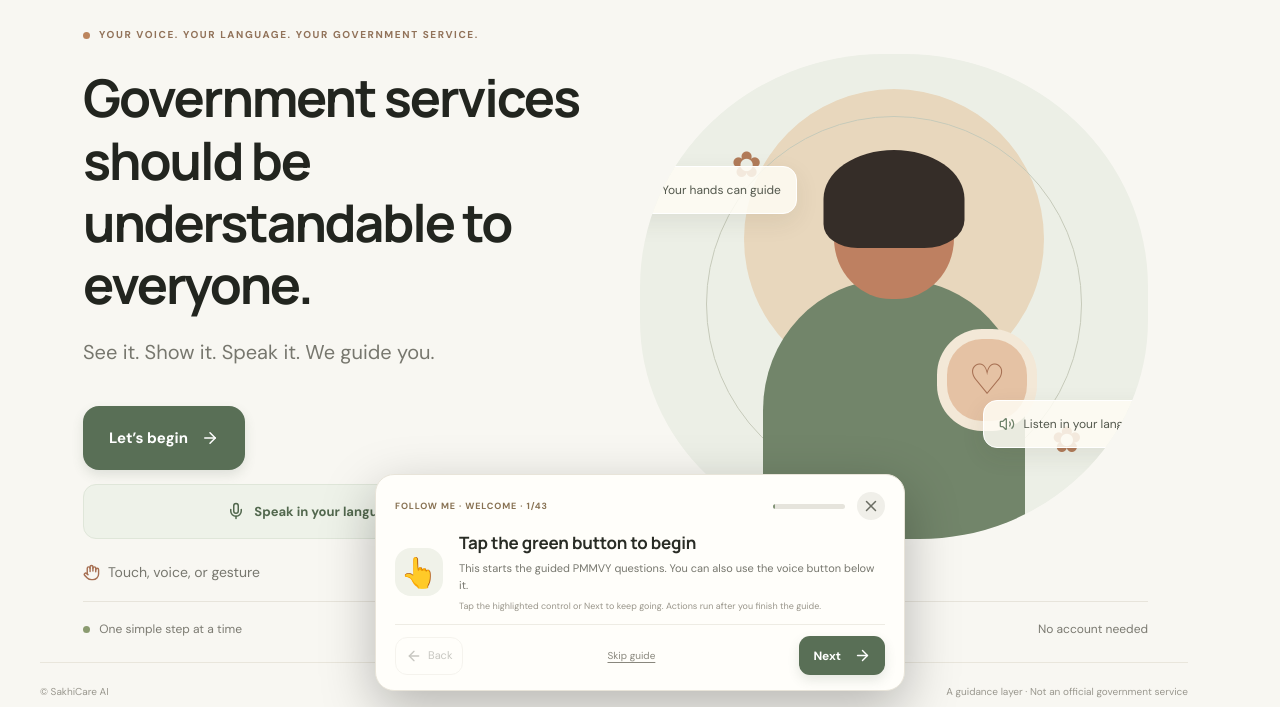
it: SakhiCare guided journey › shows the replay guide and advances its visual steps
(page scrolled)
What coordinates should you click on to do the following:
click the button named "skip guide"
I would click on:
 (871, 506)
Its box is [857,492,885,520].
(page scrolled)
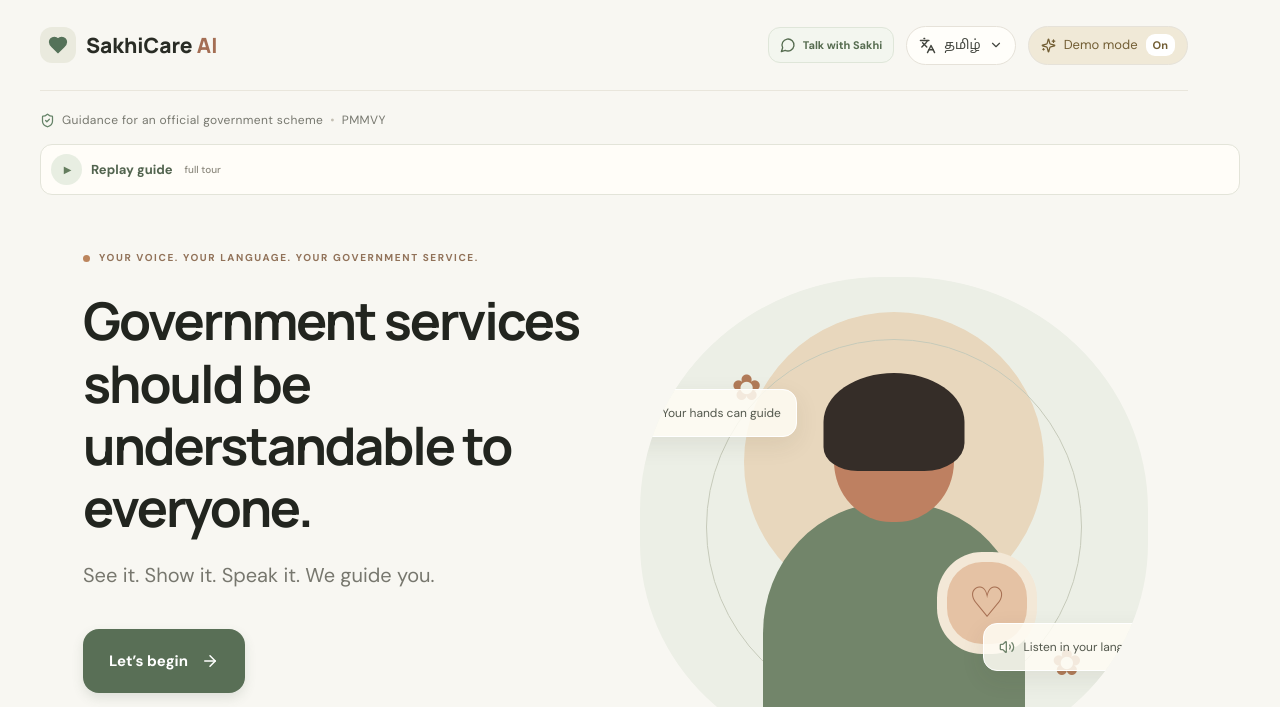
What coordinates should you click on to do the following:
click the button "▶ Replay guide full tour"
I would click on:
 (66, 170)
Its box is [40,144,1240,195].
(page scrolled)
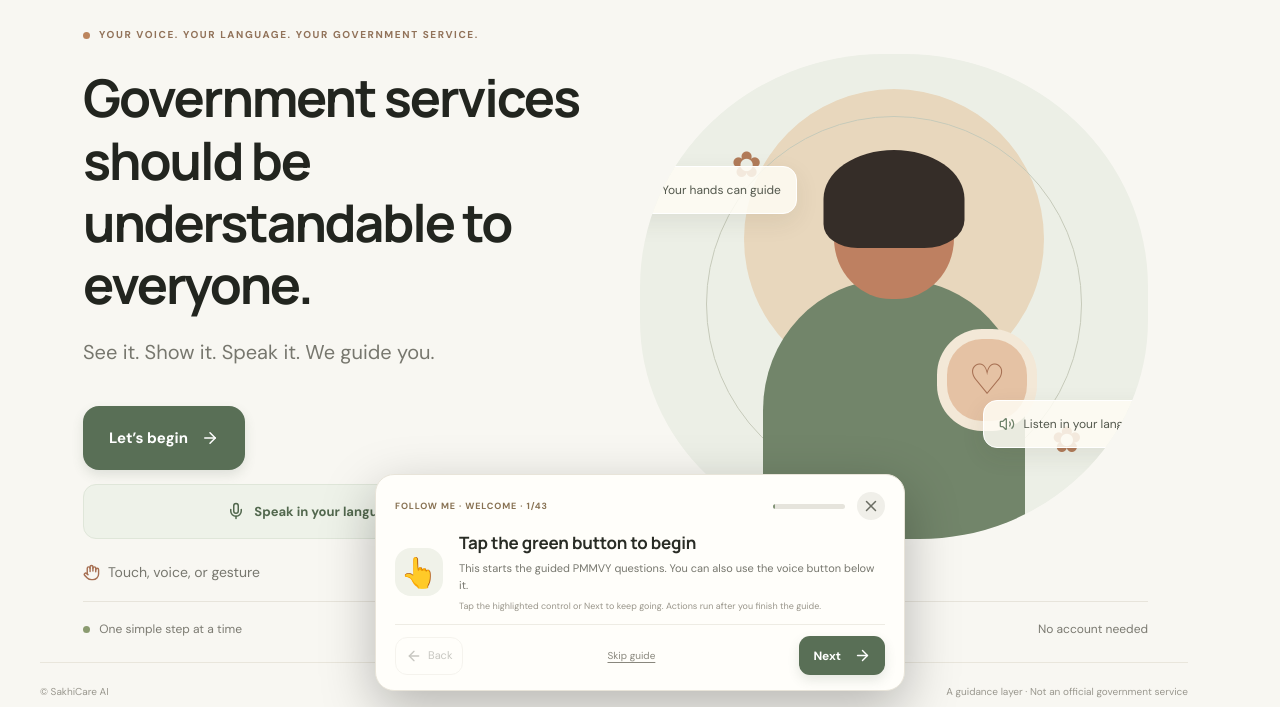
Expected: the dialog is shown, [375,474,905,691]
Expected: the heading "Tap the green button to begin" is shown, [459,531,696,554]
What coordinates should you click on to do the following:
click the button "Next"
I would click on:
 (842, 656)
Its box is [799,636,885,675].
(page scrolled)
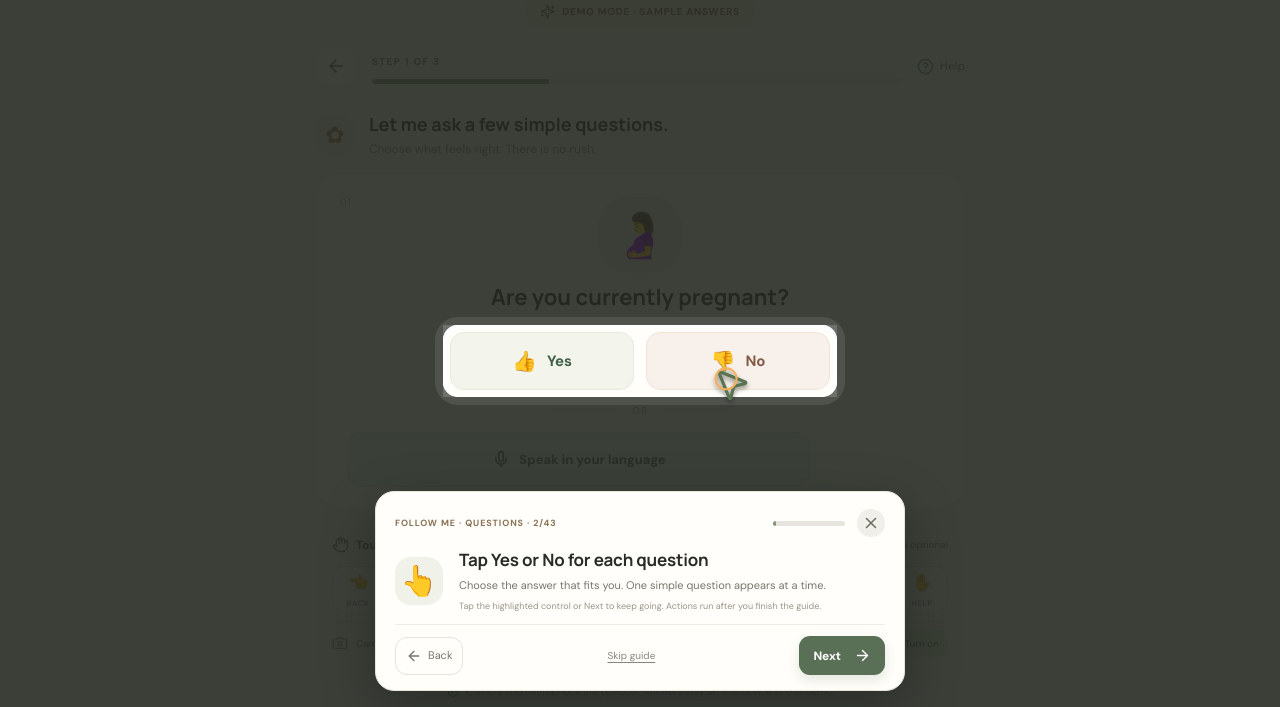
Expected: the heading "Tap Yes or No for each question" is shown, [459,548,708,572]
